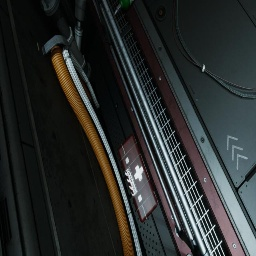0: (114, 0, 134, 16)
FirstAidBox ,: (118, 134, 158, 222)
